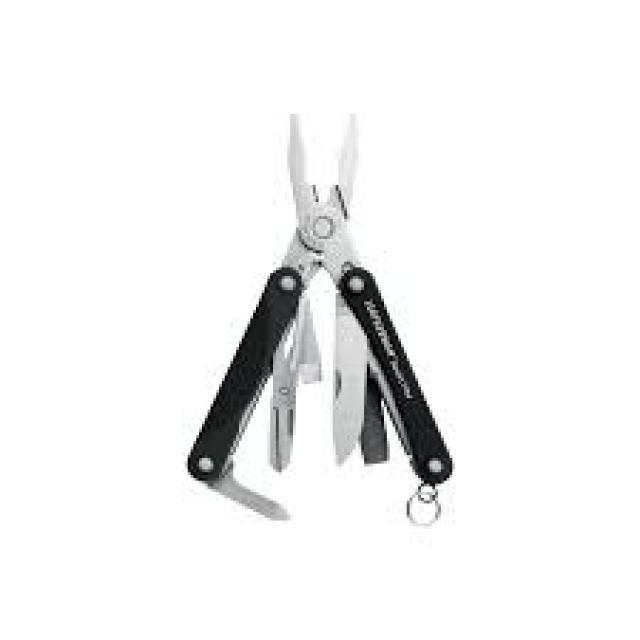pliers: (203, 97, 427, 470)
